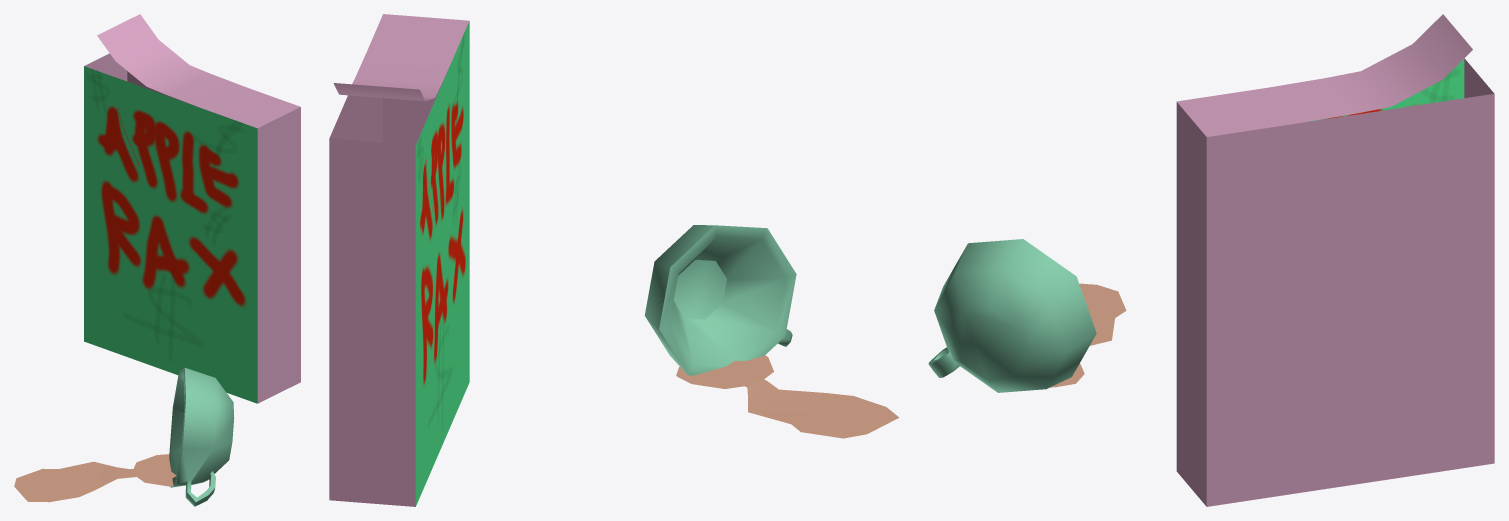
File: cereal_cup.fbx
3 views of the same model, side by side, from view 1: azimuth 30°, elevation 25°; view 2: azimuth 150°, elevation 25°; view 3: azimuth 270°, elevation 25° (orthographic). The views are drawn at different scales.
Parts seen in each view (by area): view 1: Cube_1, cup, Stain; view 2: Cube_1, cup, Stain; view 3: Cube_1, cup, Stain.
Boxes of the visible parts, x1,y1,x2,y2 form: Cube_1: (84, 14, 300, 403); cup: (169, 367, 234, 506); Stain: (14, 454, 176, 502); Cube_1: (329, 14, 469, 506); cup: (644, 225, 796, 375); Stain: (676, 355, 899, 438); Cube_1: (1176, 14, 1494, 506); cup: (928, 239, 1096, 392); Stain: (1050, 283, 1126, 387).
Size of the model in its own units: 692 by 625 by 758.
